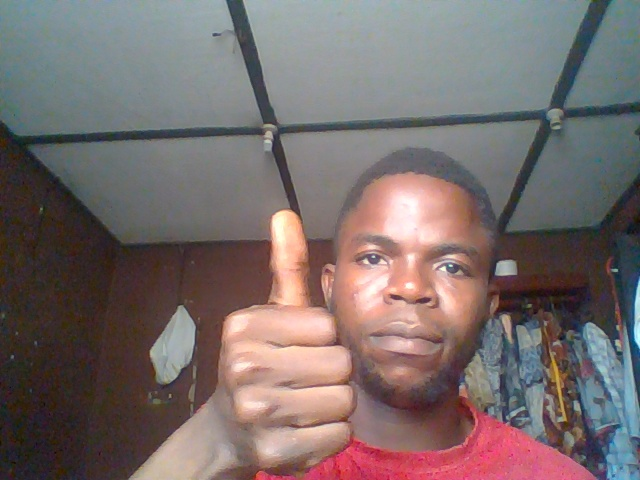Thumbup: (192, 207, 367, 479)
